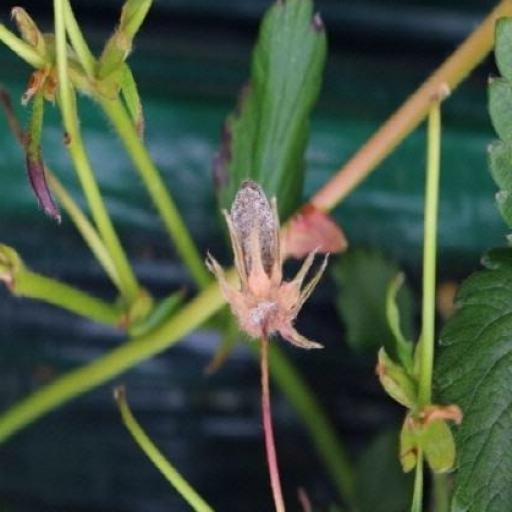Gray Mold: (183, 147, 308, 333)
